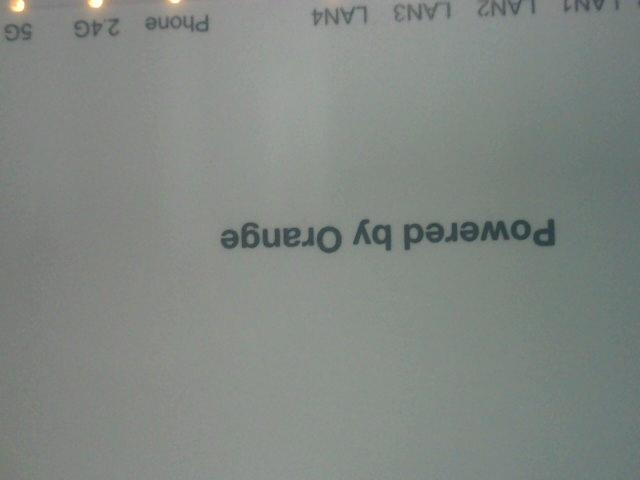AS_PowerByOrange: (202, 182, 559, 271)
